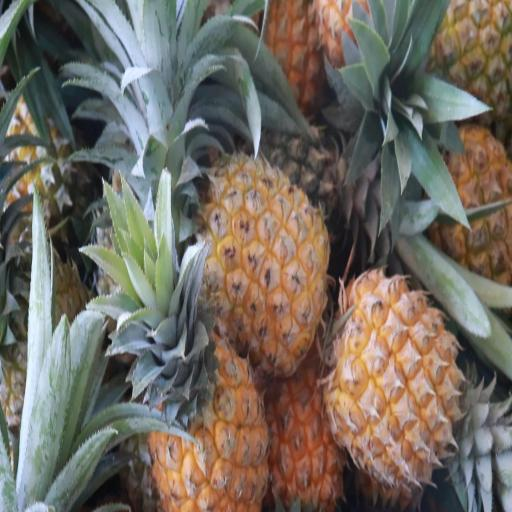Pineapple - v8 v1: (199, 150, 330, 370), (146, 289, 268, 512), (333, 280, 458, 482), (267, 371, 352, 512)
